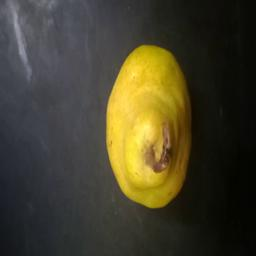Pear Semifresh: (101, 31, 200, 218)
